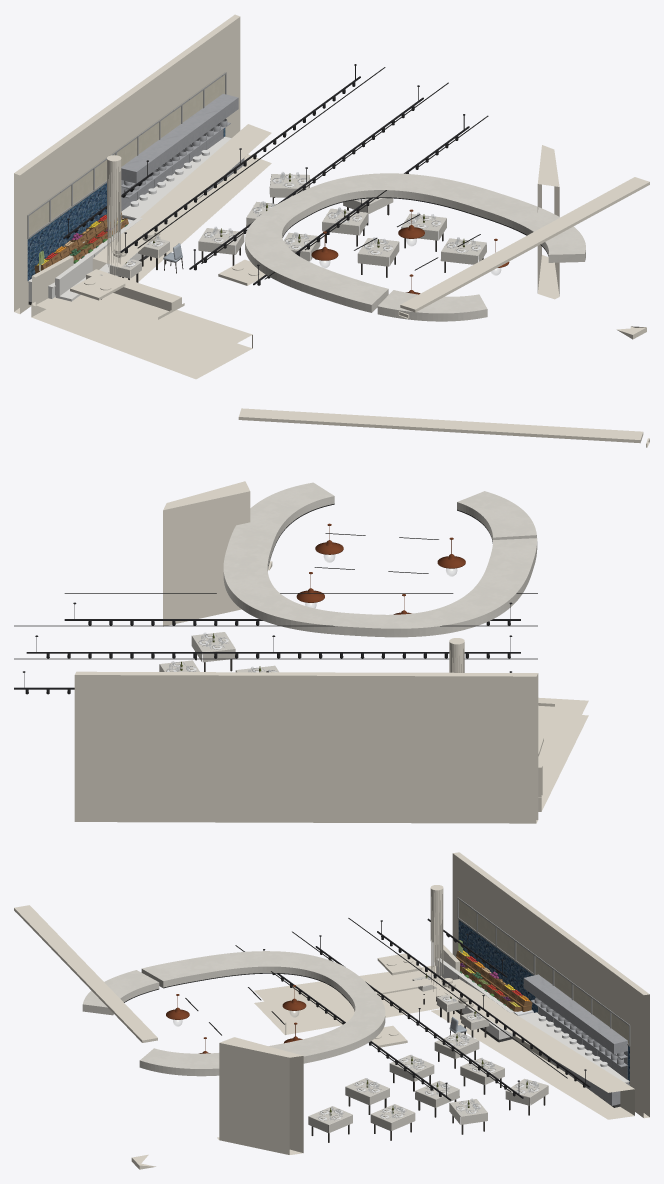
3 views of the same model, one above another, from view 1: azimuth 30°, elevation 25°; view 2: azimuth 150°, elevation 25°; view 3: azimuth 270°, elevation 25° (orthographic). The views are drawn at different scales.
Parts seen in each view (by area): view 1: n09700, n09712, n09722, n09705, n09704, n09702, n09719, n09724, n09729, n09715, n09728, n09709 (+6 smaller); view 2: n09700, n09712, n09715, n09719, n09722, n09716, n09720; view 3: n09700, n09712, n09722, n09705, n09704, n09702, n09719, n09724, n09709, n09729, n09703, n09715 (+8 smaller).
Boxes of the visible parts, x1,y1,x2,y2 form: n09700: (14,14,649,379); n09712: (245,173,585,321); n09722: (102,174,486,298); n09705: (121,94,238,211); n09704: (27,72,225,236); n09702: (27,128,225,280); n09719: (63,64,469,285); n09724: (124,174,480,267); n09729: (55,217,148,301); n09715: (137,67,488,279); n09728: (28,136,231,288); n09709: (34,212,128,273); n09700: (74,408,649,823); n09712: (223,482,537,637); n09715: (14,533,537,659); n09719: (14,602,520,689); n09722: (159,632,278,672); n09716: (296,523,465,614); n09720: (25,621,510,694); n09700: (14,852,649,1169); n09712: (82,951,385,1076); n09722: (308,974,548,1132); n09705: (523,974,627,1079); n09704: (458,897,629,1043); n09702: (458,920,629,1083); n09719: (263,918,590,1100); n09724: (316,977,539,1120); n09709: (456,950,532,1011); n09729: (432,958,513,1042); n09703: (457,897,630,1046); n09715: (185,918,567,1091).
Bounding box in the file's own units: 16.8 × 5.17 × 22.48.
Materials: 49 (10 with a texture image).
